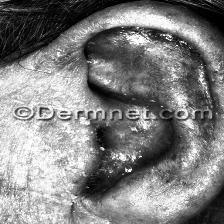Non-Cancerous Skin Condition: (37, 17, 224, 103)
